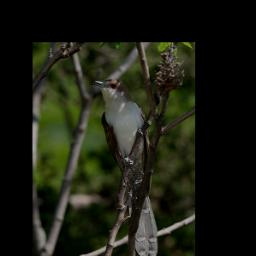Cuckoo: (89, 76, 160, 256)
